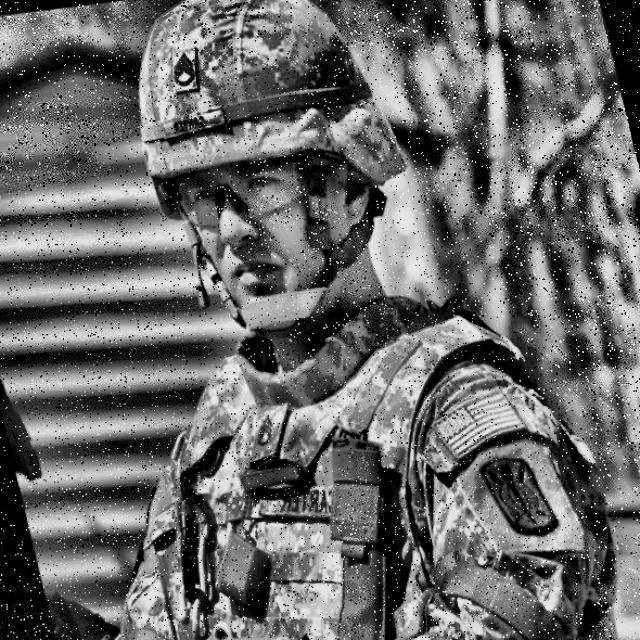Helmet: (96, 0, 447, 356)
